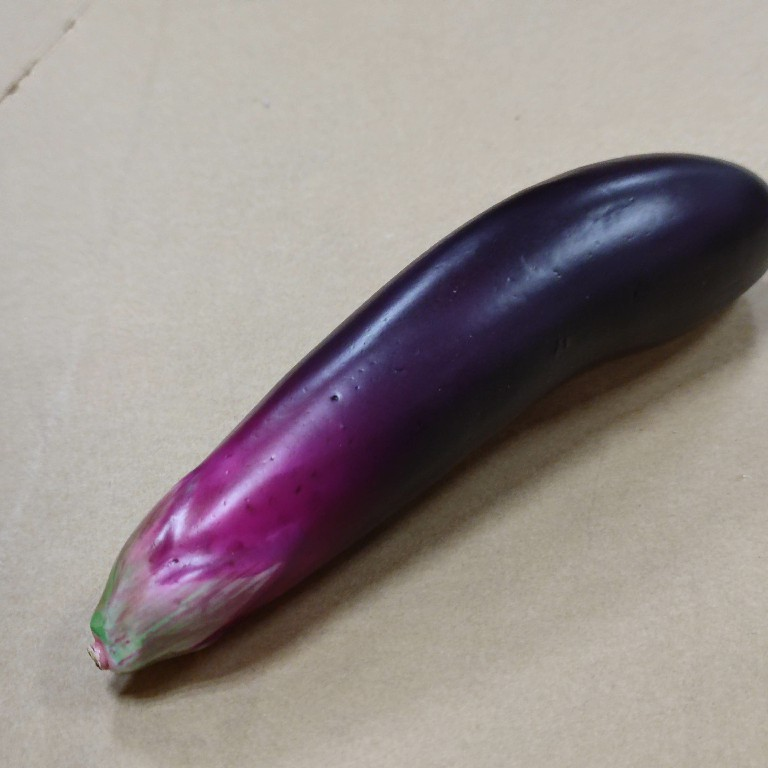fruit_eggplant: (85, 149, 768, 683)
